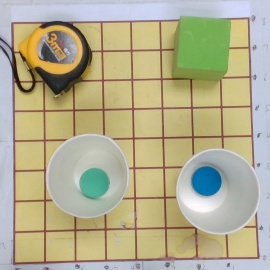cup_blue: (173, 146, 251, 232)
cup_green: (45, 128, 138, 217)
